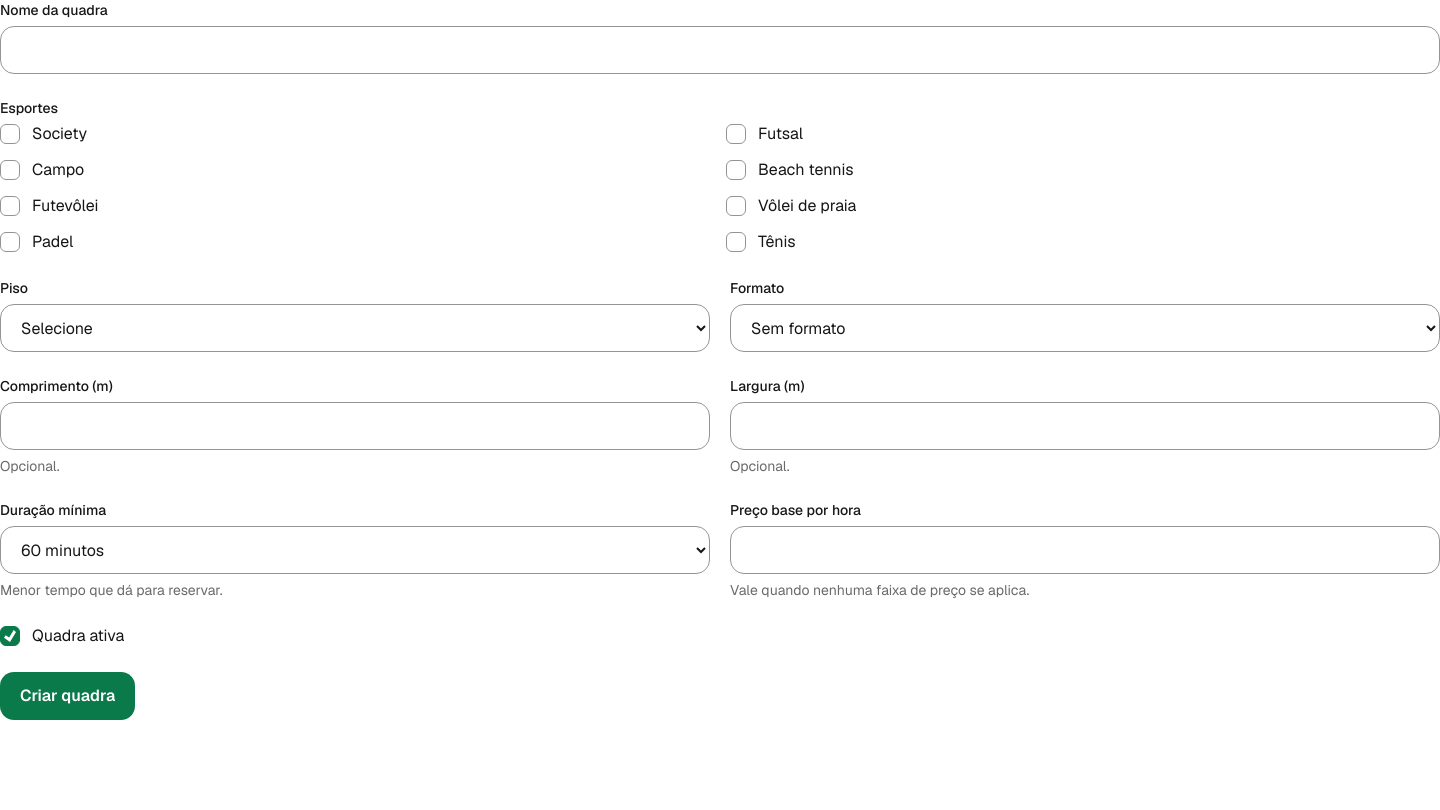
Test: FieldForm (create) › does not send an invalid price
This screenshot has width=1440, height=810.
In the field labelled "Preço base por hora": (1085, 550) x1=730 y1=526 x2=1439 y2=574, type "abc"
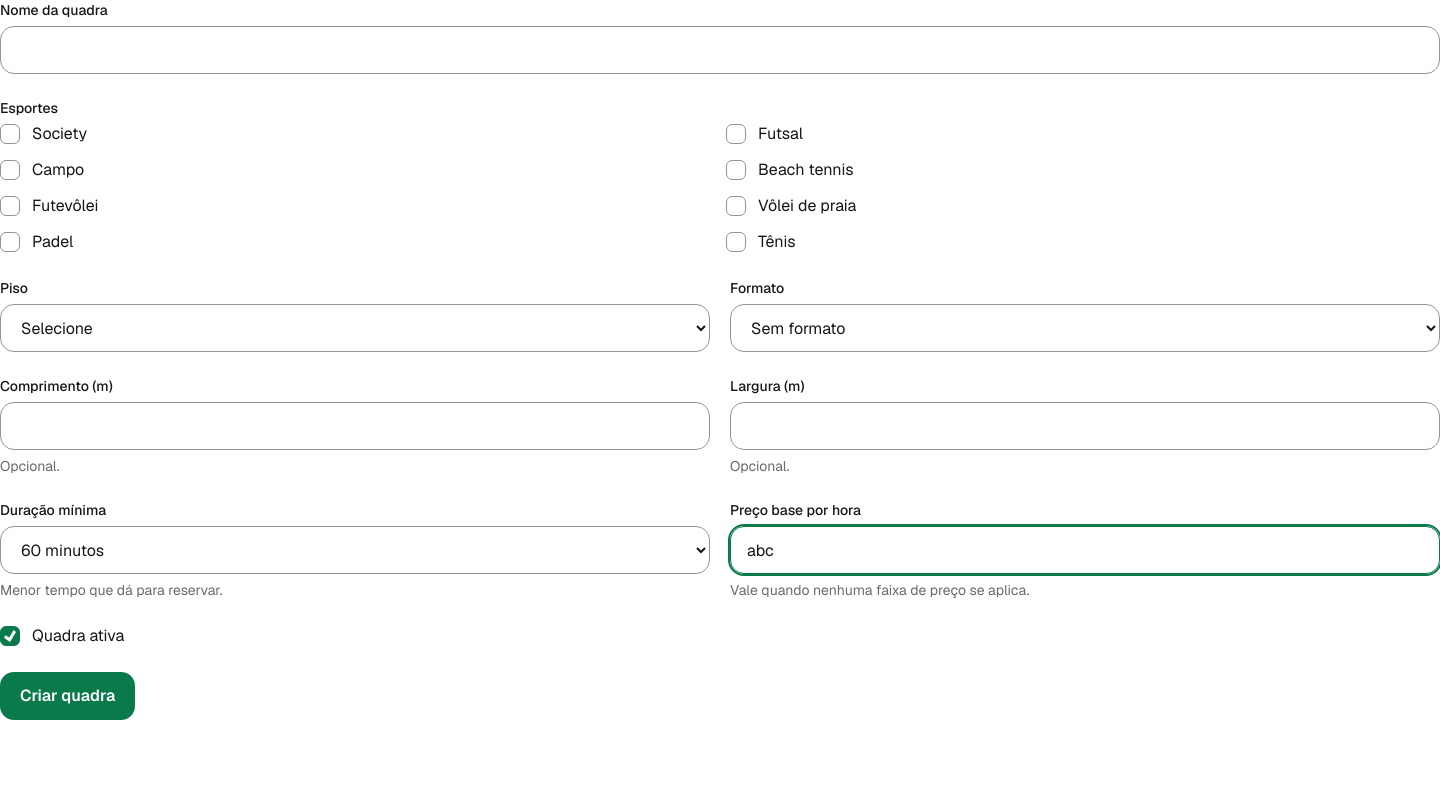
Click the button "Criar quadra": click(68, 696) x1=0 y1=672 x2=135 y2=720
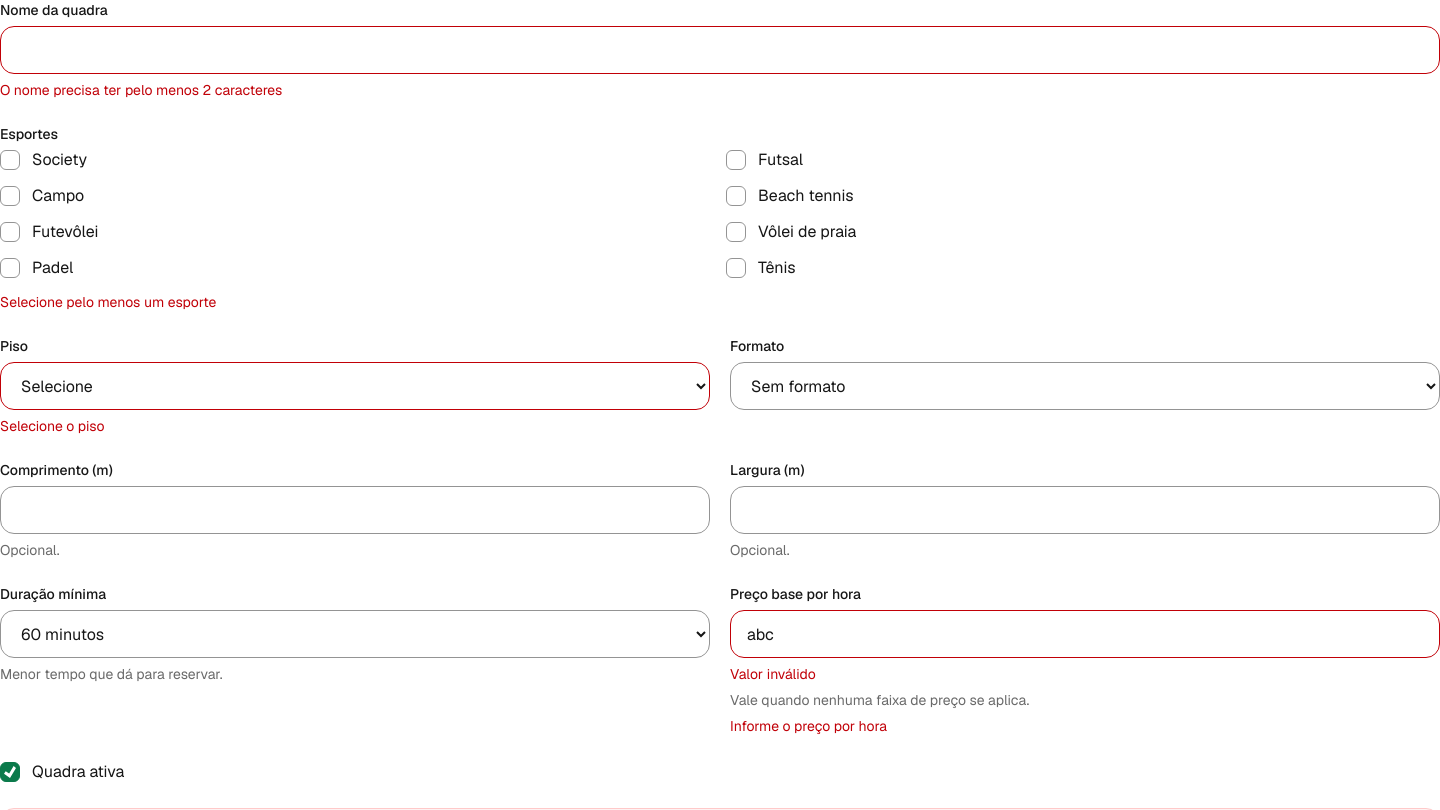
Expected: the text "Valor inválido" is shown, x1=730 y1=665 x2=816 y2=683
